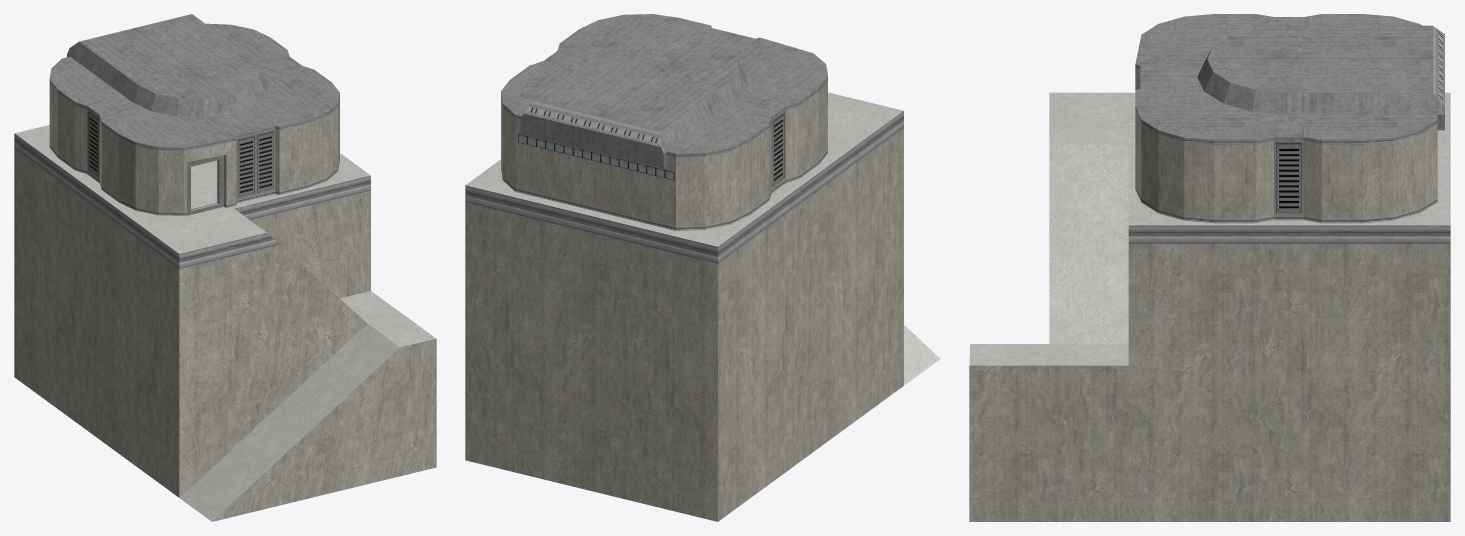
File: ply_corl_house_sm_s02_fp1_r0_mesh_l1.fbx
The picture shows the model from 3 angles, left to right: view 1: azimuth 30°, elevation 25°; view 2: azimuth 150°, elevation 25°; view 3: azimuth 270°, elevation 25°; orthographic projection. The views are drawn at different scales.
Parts seen in each view (by area): view 1: mesh_node; view 2: mesh_node; view 3: mesh_node.
Part boxes in pixels (left/top/right/bottom): mesh_node: left=14, top=14, right=436, bottom=521; mesh_node: left=465, top=14, right=940, bottom=521; mesh_node: left=969, top=14, right=1450, bottom=521.
Bounding box in the file's own units: 15.87 × 22.12 × 24.27.
